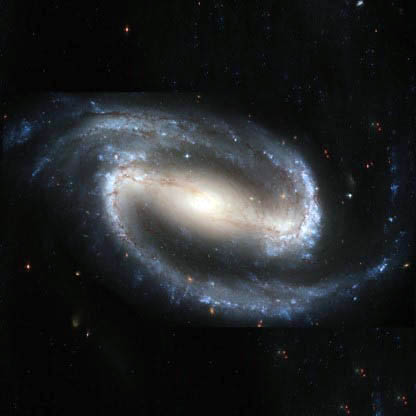NGC 1300: (17, 96, 401, 327)
